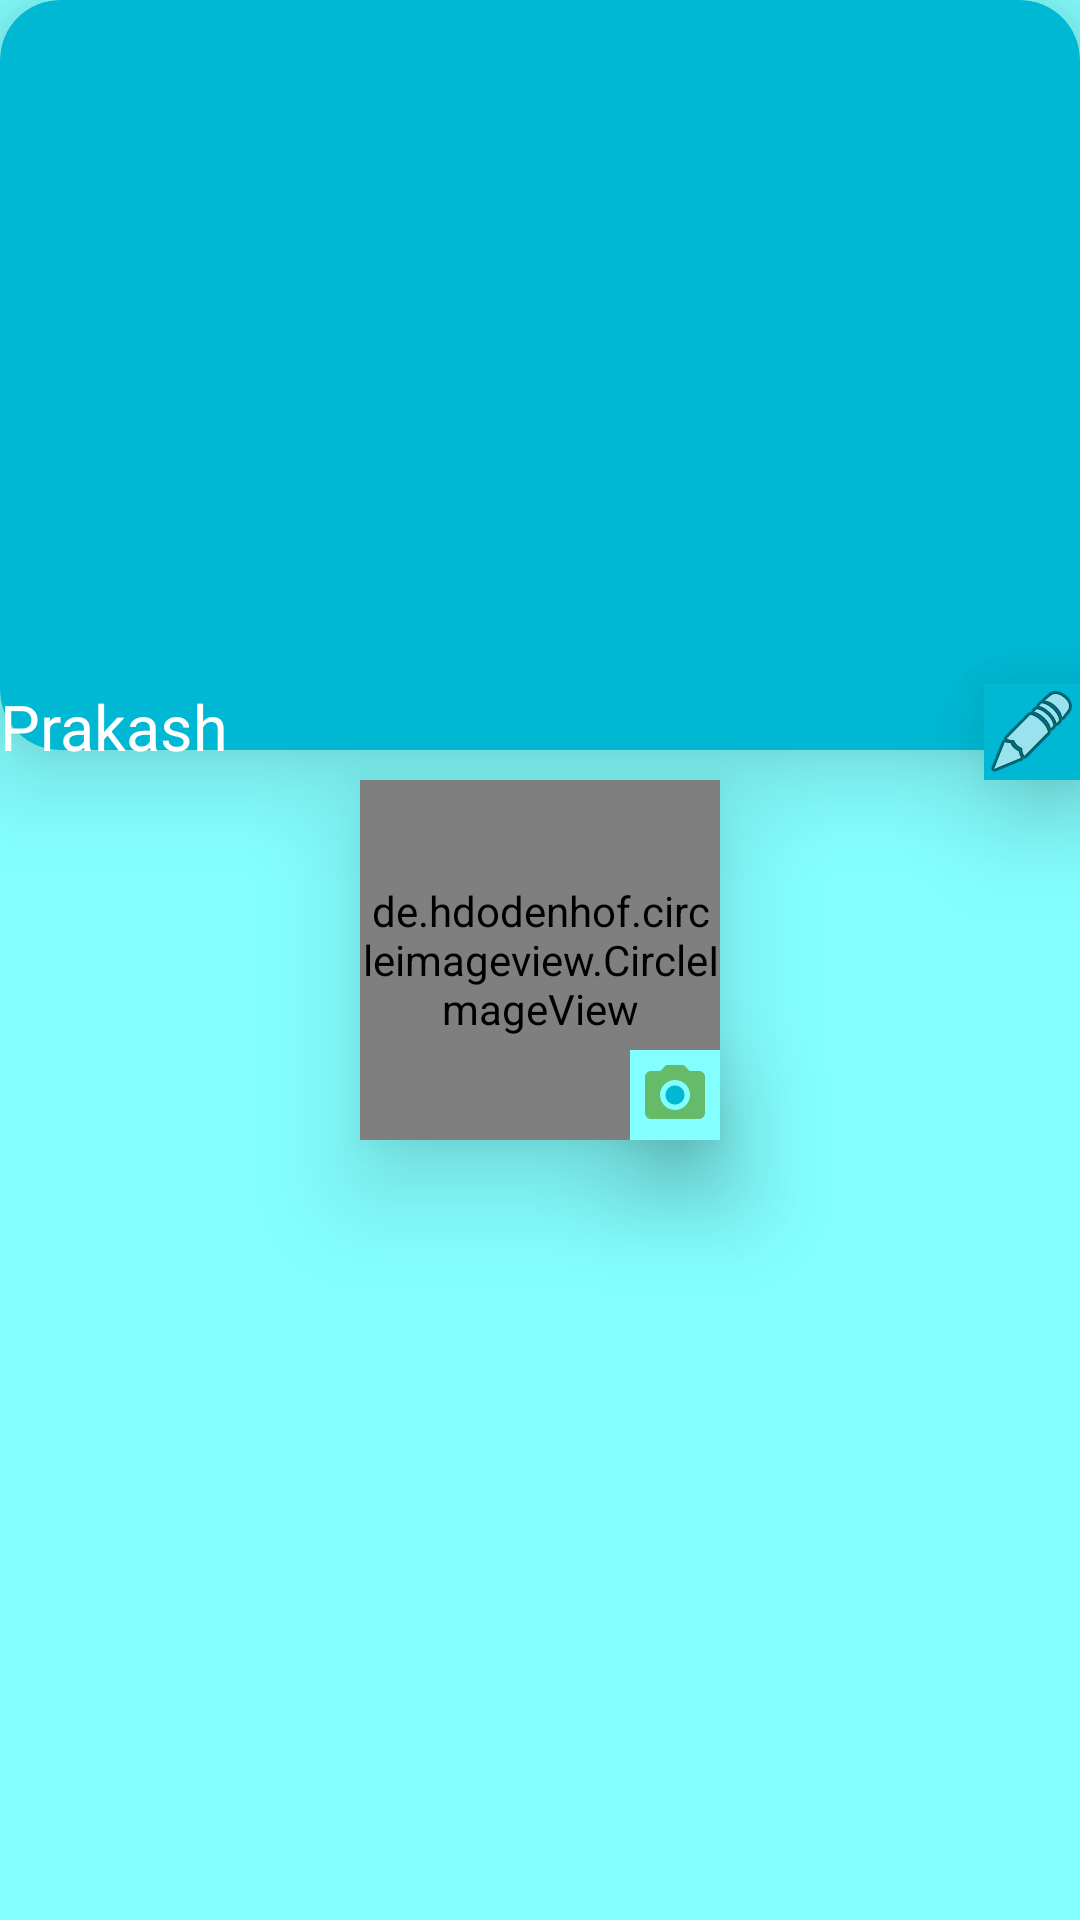

Icons on this 1080 x 1920 Android screen, each with the point to tap as point (x, y):
camera: point (675, 1095)
edit: point (1032, 732)
